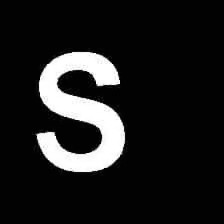LTR_S: (27, 42, 131, 180)
